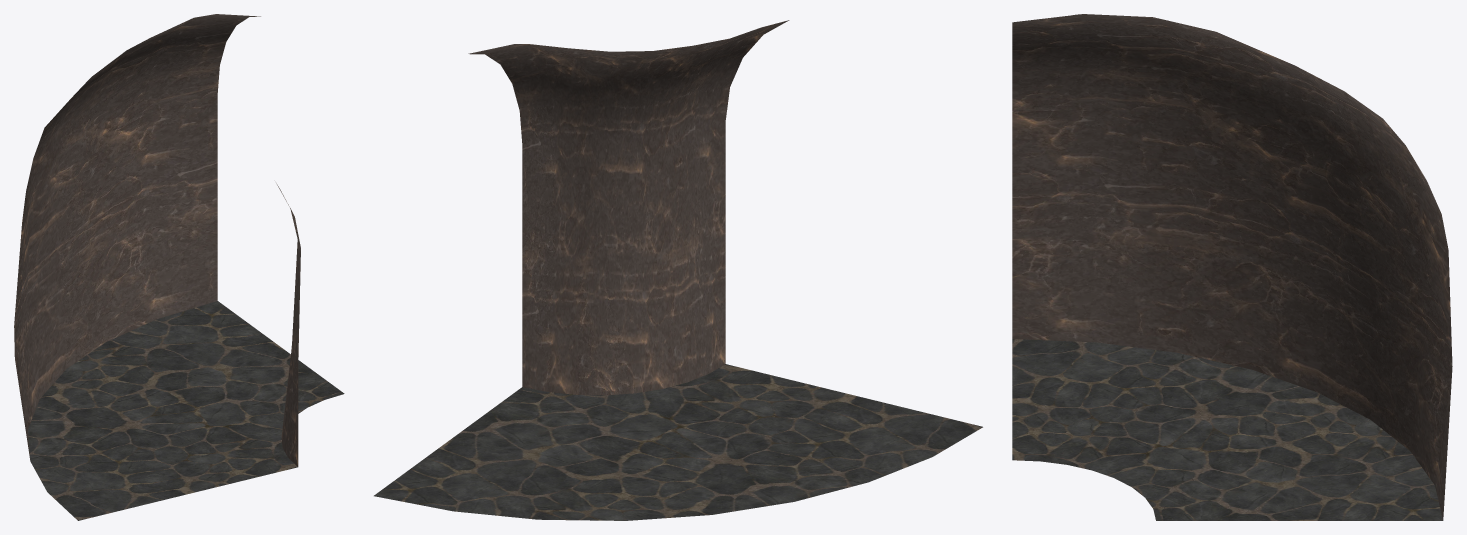
Rendered from hall-corner.730e1dfa.gltf.
3 renders of one model, left to right at view 1: azimuth 30°, elevation 25°; view 2: azimuth 150°, elevation 25°; view 3: azimuth 270°, elevation 25°, orthographic. The views are drawn at different scales.
Parts seen in each view (by area): view 1: hall-corner-mesh; view 2: hall-corner-mesh; view 3: hall-corner-mesh.
Part boxes in pixels (x1,y1,x2,y2): hall-corner-mesh: [14, 14, 344, 520]; hall-corner-mesh: [374, 20, 982, 520]; hall-corner-mesh: [1012, 14, 1452, 520].
Bounding box in the file's own units: 3.06 × 2.94 × 3.06.
Materials: 2 (2 with a texture image).
